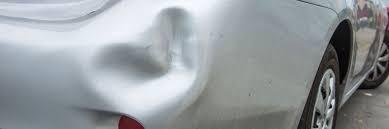dent: (90, 4, 203, 125)
